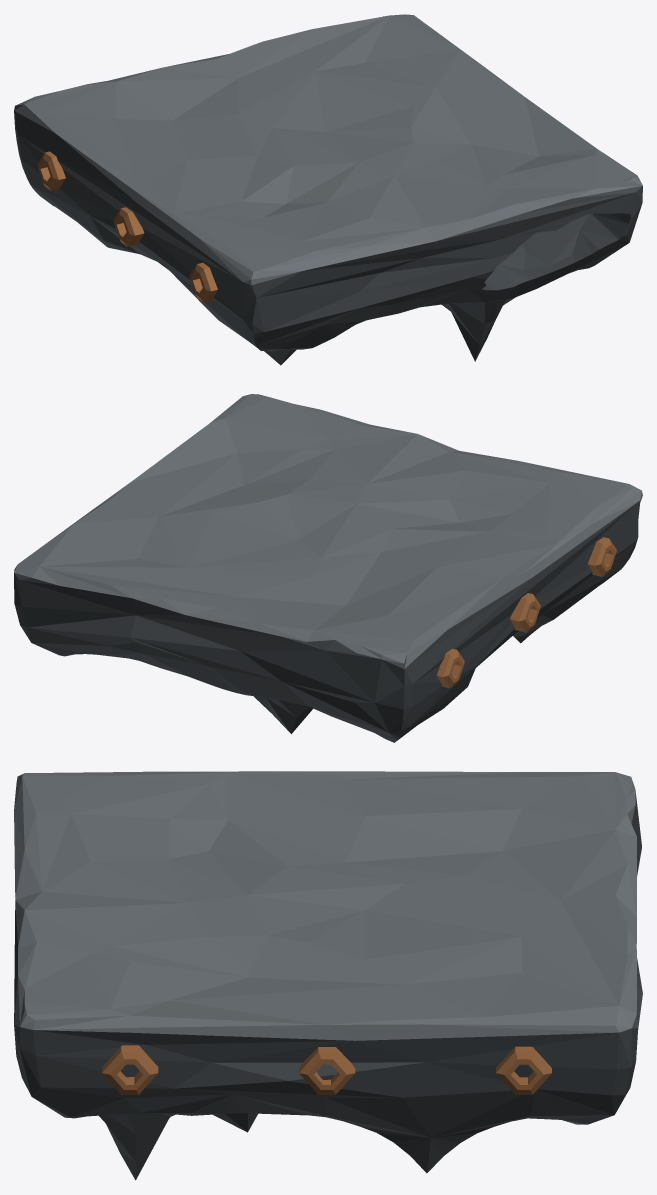
File: geo_horiz_movPlat_6x6.fbx
3 renders of one model, top to bottom at view 1: azimuth 30°, elevation 25°; view 2: azimuth 150°, elevation 25°; view 3: azimuth 270°, elevation 25°, orthographic. The views are drawn at different scales.
Visible parts, largest first — view 1: geo_horiz_movPlat_6x6; view 2: geo_horiz_movPlat_6x6; view 3: geo_horiz_movPlat_6x6.
Boxes of the visible parts, bbox=[...] form: geo_horiz_movPlat_6x6: bbox=[14, 14, 642, 365]; geo_horiz_movPlat_6x6: bbox=[14, 394, 642, 742]; geo_horiz_movPlat_6x6: bbox=[14, 771, 642, 1180].
Bounding box in the file's own units: 6.2 × 2.68 × 6.32.
